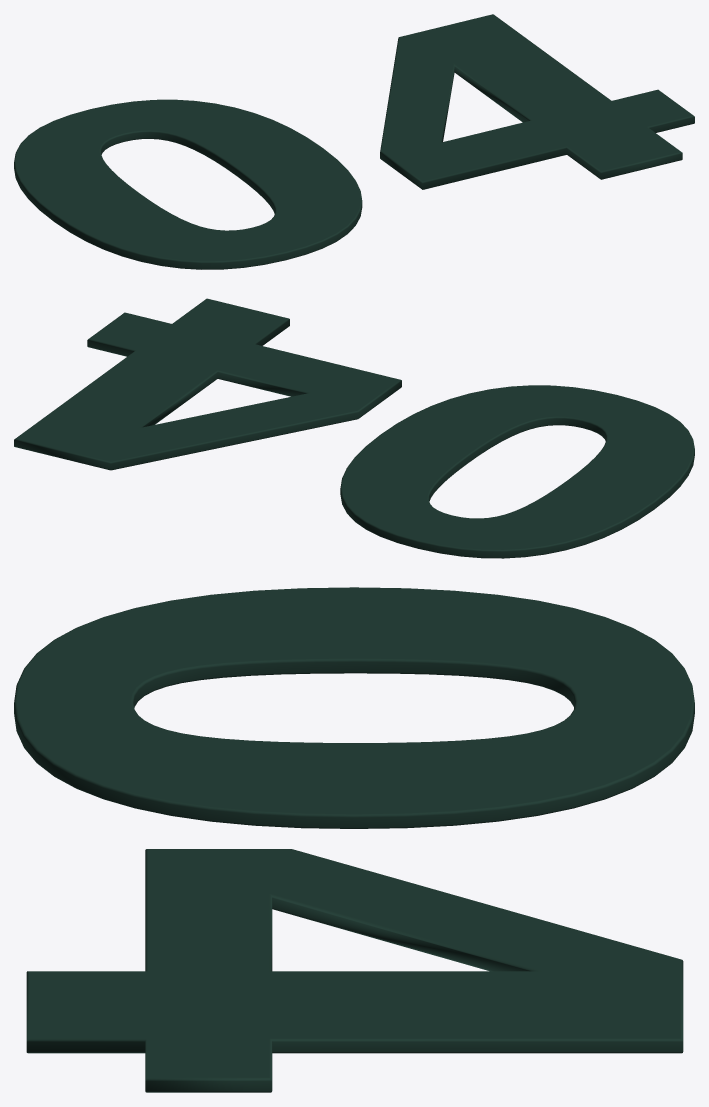
File: SM_EG_Lane_number_2d69c4d436.fbx
3 renders of one model, top to bottom at view 1: azimuth 30°, elevation 25°; view 2: azimuth 150°, elevation 25°; view 3: azimuth 270°, elevation 25°, orthographic. The views are drawn at different scales.
Visible parts, largest first — view 1: SM_EG_Lane_number_2d69c4d436; view 2: SM_EG_Lane_number_2d69c4d436; view 3: SM_EG_Lane_number_2d69c4d436.
Part boxes in pixels (x1,y1,x2,y2): SM_EG_Lane_number_2d69c4d436: [14, 14, 694, 269]; SM_EG_Lane_number_2d69c4d436: [14, 298, 694, 558]; SM_EG_Lane_number_2d69c4d436: [14, 587, 694, 1092].
Bounding box in the file's own units: 31.97 × 18.69 × 0.44.
